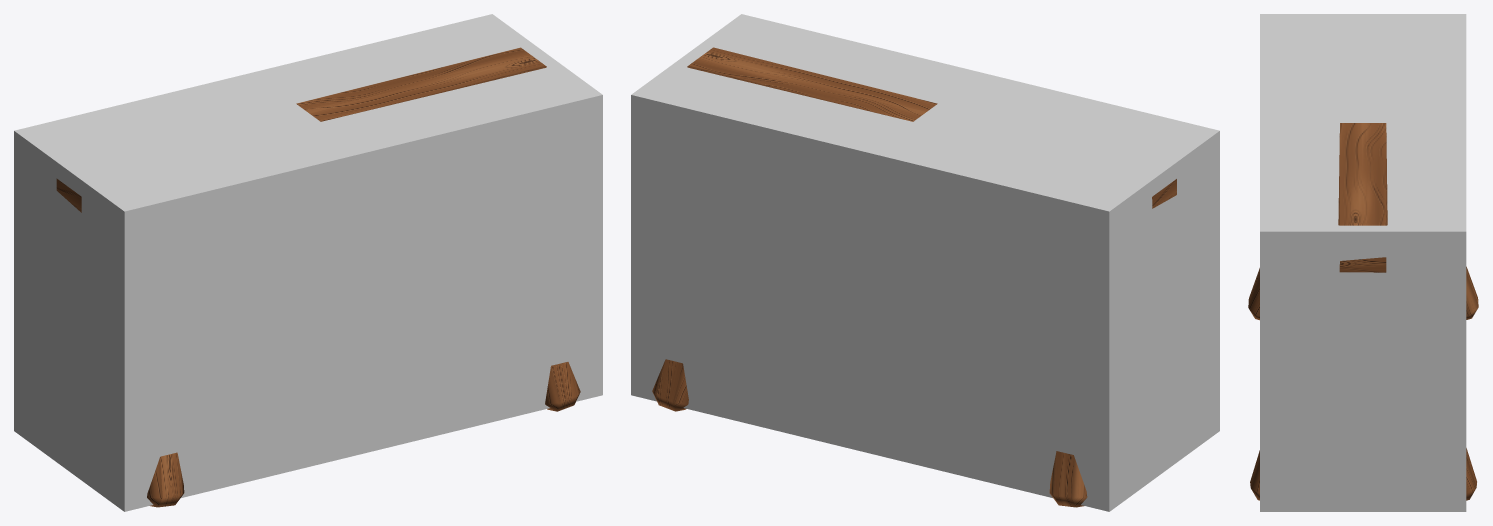
File: SM_Sawhorse.fbx
3 views of the same model, side by side, from view 1: azimuth 30°, elevation 25°; view 2: azimuth 150°, elevation 25°; view 3: azimuth 270°, elevation 25° (orthographic). The views are drawn at different scales.
Parts seen in each view (by area): view 1: Sawhorse_Col0, Sawhorse_Body; view 2: Sawhorse_Col0, Sawhorse_Body; view 3: Sawhorse_Col0, Sawhorse_Body.
Part boxes in pixels (left/top/right/bottom): Sawhorse_Col0: left=14, top=14, right=602, bottom=511; Sawhorse_Body: left=56, top=47, right=580, bottom=507; Sawhorse_Col0: left=631, top=14, right=1219, bottom=511; Sawhorse_Body: left=652, top=47, right=1176, bottom=507; Sawhorse_Col0: left=1260, top=14, right=1466, bottom=511; Sawhorse_Body: left=1248, top=123, right=1478, bottom=500.
Bounding box in the file's own units: 5 × 3.1 × 2.24.
